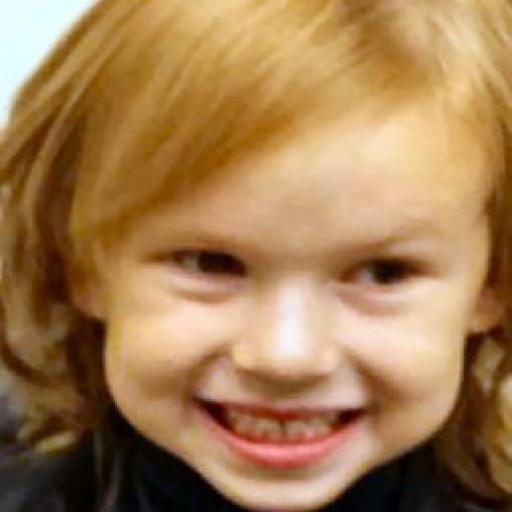Autism: (62, 42, 512, 482)
